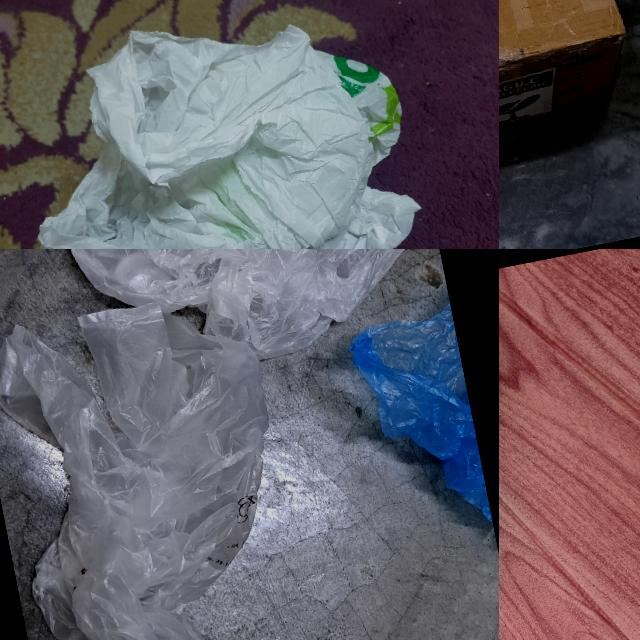papelão: (499, 0, 640, 160)
sacola plástica: (0, 265, 317, 640), (0, 0, 458, 249), (25, 249, 449, 382), (338, 280, 498, 574), (499, 306, 539, 640)
